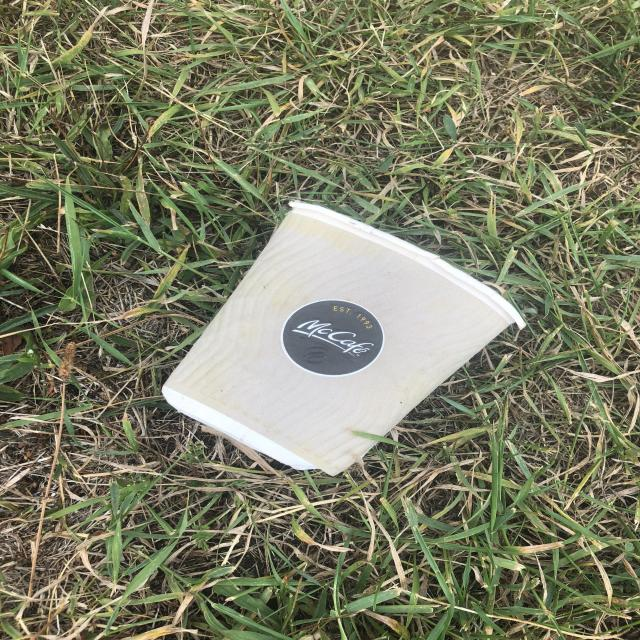litter: (160, 201, 526, 477)
